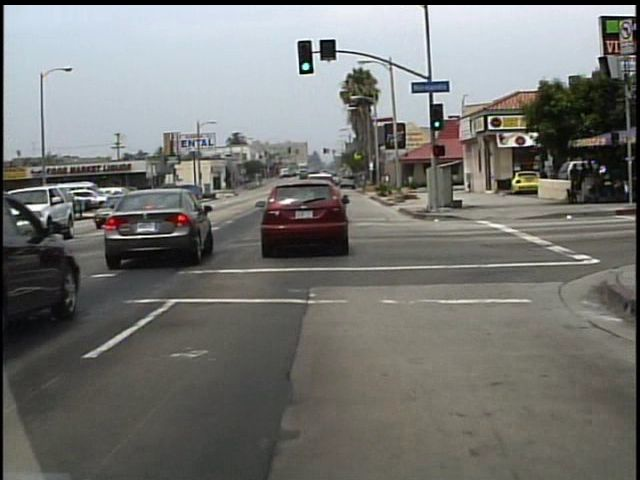person: (534, 162, 550, 199)
